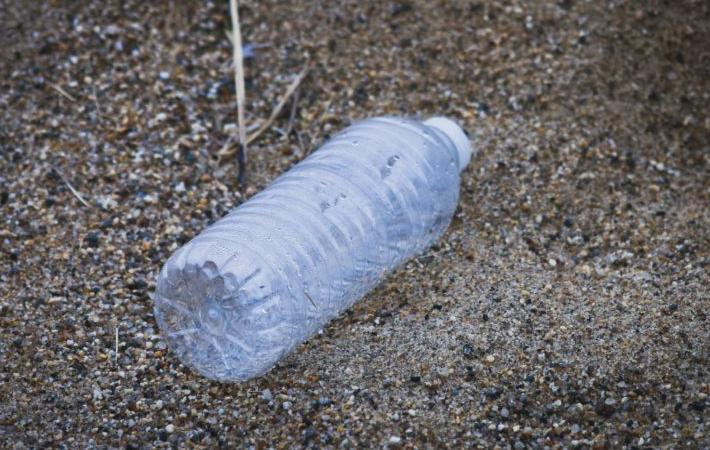Plastic: (140, 105, 478, 395)
